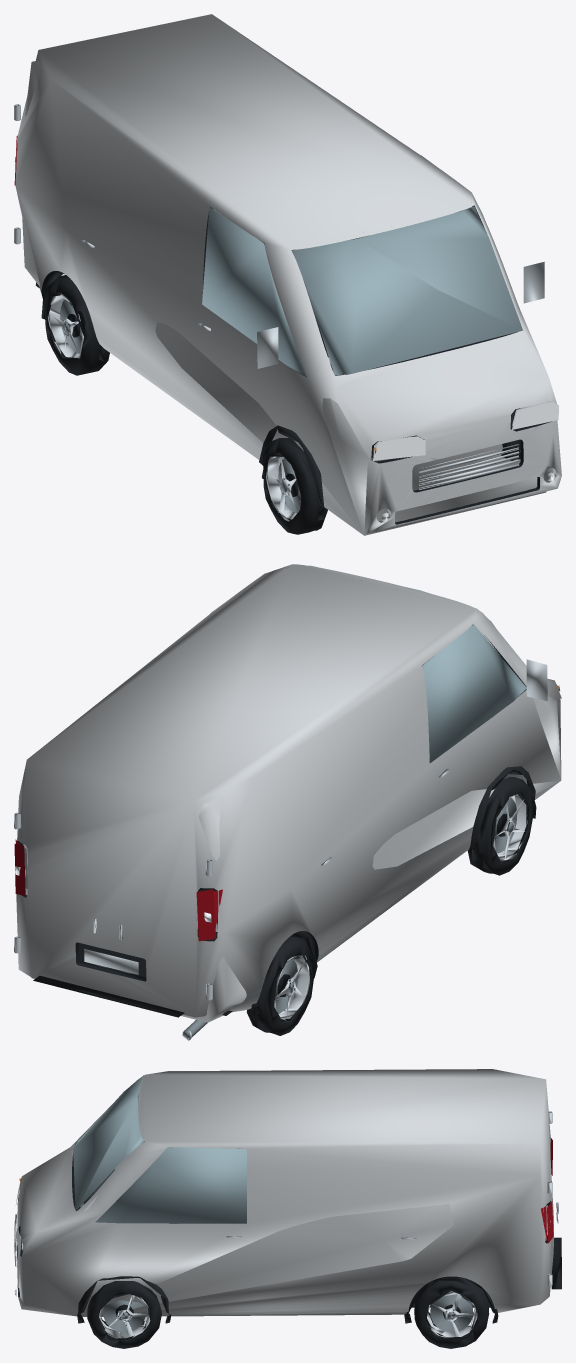
The model's file is van-lod2.glb.
3 renders of one model, top to bottom at view 1: azimuth 30°, elevation 25°; view 2: azimuth 150°, elevation 25°; view 3: azimuth 270°, elevation 25°, orthographic. The views are drawn at different scales.
Visible parts, largest first — view 1: body_paint, body_glass.001, wheelpart_rubber.001 (×2), body_chrome, wheelpart_chrome (×2), body_clearlens, body_black.001, body_rubber.001; view 2: body_paint, body_glass.001, wheelpart_rubber.001 (×2), body_rubber.001, body_chrome, wheelpart_chrome (×2), body_redlens, body_black.001; view 3: body_paint, body_glass.001, wheelpart_rubber.001 (×2), wheelpart_steel.001 (×2), body_rubber.001, wheelpart_chrome (×2), body_chrome, body_redlens.
Part boxes in pixels (x1,y1,x2,y2): body_paint: [15, 14, 561, 535]; body_glass.001: [202, 155, 522, 376]; wheelpart_rubber.001 (×2): [44, 277, 327, 534]; body_chrome: [14, 104, 556, 521]; wheelpart_chrome (×2): [48, 293, 300, 521]; body_clearlens: [15, 157, 558, 521]; body_black.001: [41, 205, 551, 524]; body_rubber.001: [35, 271, 520, 520]; body_paint: [16, 564, 561, 1022]; body_glass.001: [210, 565, 526, 762]; wheelpart_rubber.001 (×2): [246, 777, 533, 1035]; body_rubber.001: [33, 766, 536, 1022]; body_chrome: [14, 659, 547, 1040]; wheelpart_chrome (×2): [274, 794, 527, 1021]; body_redlens: [14, 839, 222, 941]; body_black.001: [17, 624, 559, 981]; body_paint: [17, 1069, 553, 1316]; body_glass.001: [73, 1075, 246, 1223]; wheelpart_rubber.001 (×2): [87, 1277, 489, 1348]; wheelpart_steel.001 (×2): [103, 1294, 473, 1331]; body_rubber.001: [77, 1237, 561, 1323]; wheelpart_chrome (×2): [99, 1291, 477, 1338]; body_chrome: [14, 1111, 558, 1296]; body_redlens: [541, 1137, 553, 1243].
Bounding box in the file's own units: 2.58 × 2.32 × 5.67.
